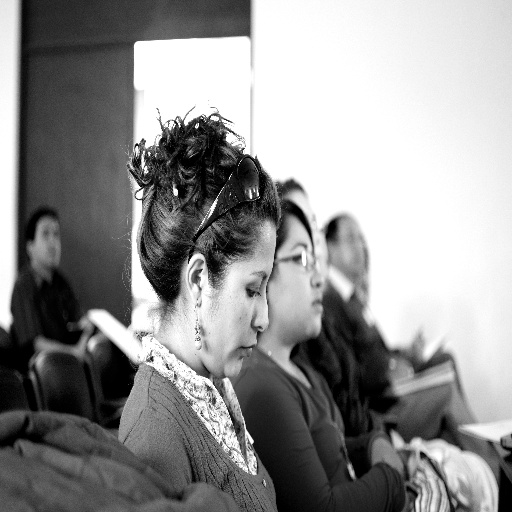hand: (369, 438, 404, 478), (399, 328, 426, 366), (385, 356, 413, 386), (74, 333, 87, 362), (76, 315, 94, 330), (401, 488, 412, 511)
